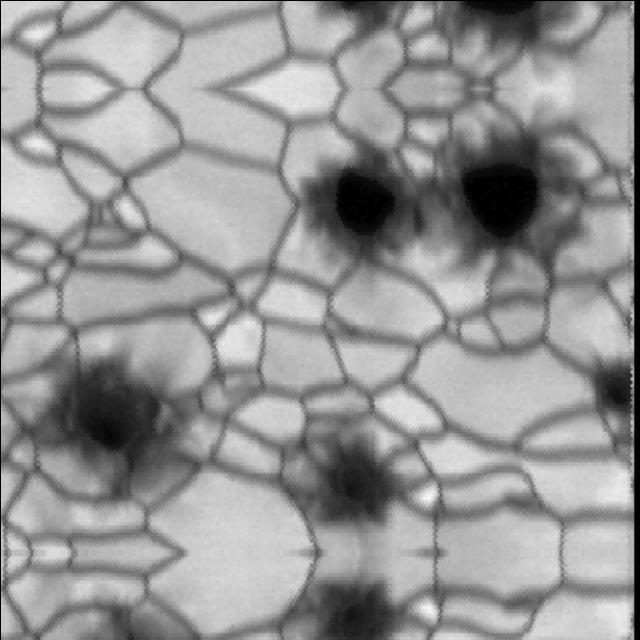good_void: (266, 86, 601, 351), (0, 317, 241, 531), (290, 0, 577, 79), (287, 424, 419, 545), (287, 561, 418, 640), (26, 587, 206, 640), (589, 358, 632, 495)
